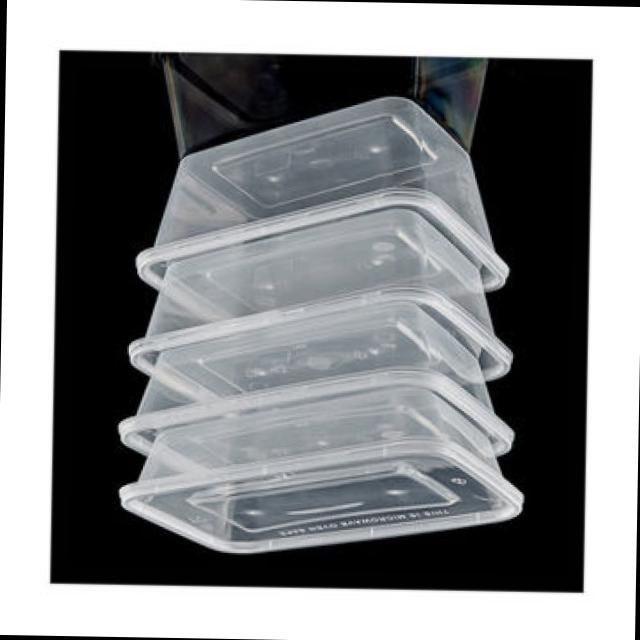plastic_box: (100, 45, 522, 575), (134, 81, 503, 292)
